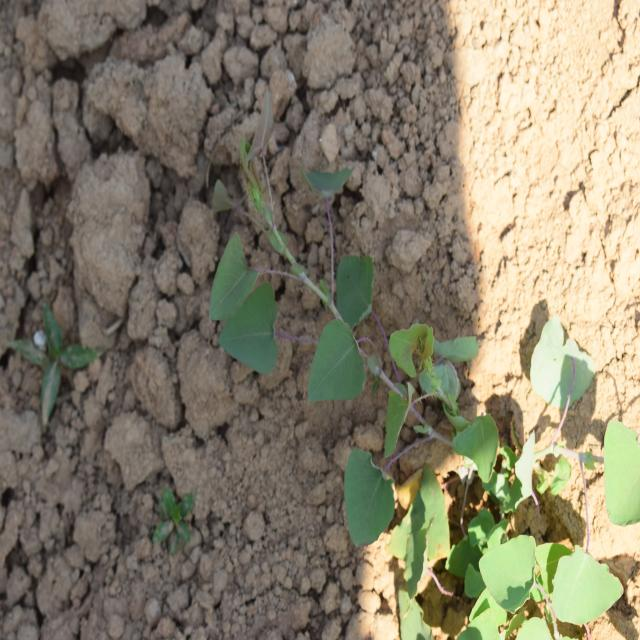Asiatic_Smartweed: (222, 111, 380, 412), (345, 322, 499, 566)
